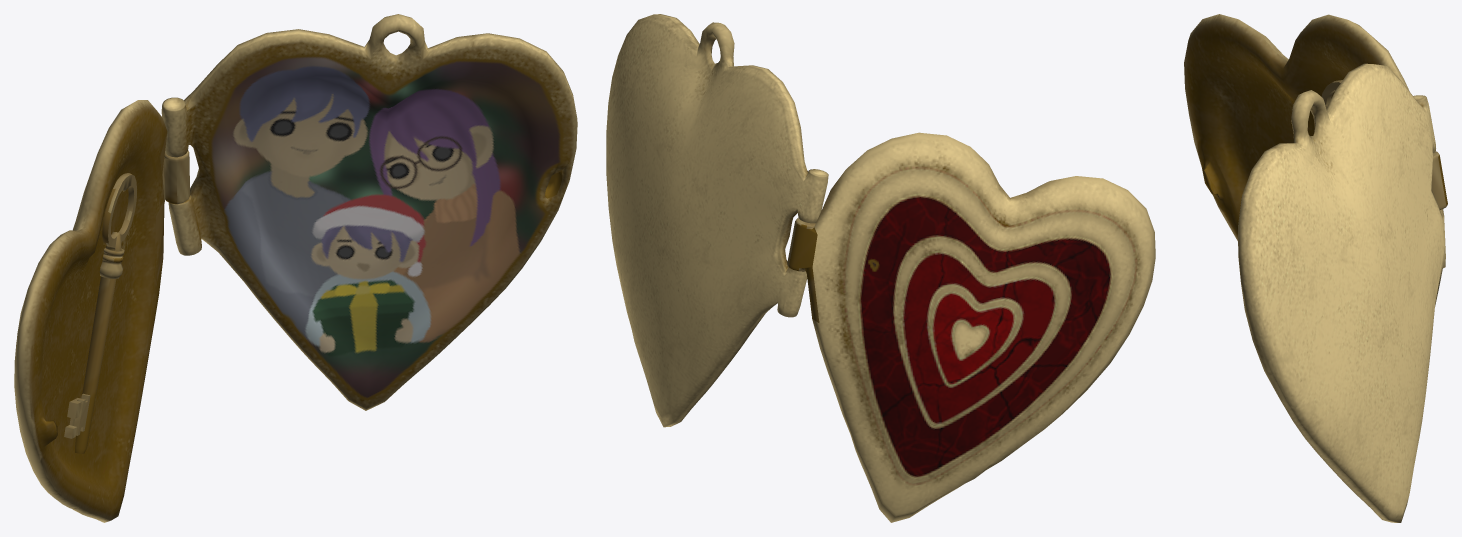
File: SM_Prop_Clue_Pendant.fbx
The picture shows the model from 3 angles, left to right: view 1: azimuth 30°, elevation 25°; view 2: azimuth 150°, elevation 25°; view 3: azimuth 270°, elevation 25°; orthographic projection. The views are drawn at different scales.
Parts seen in each view (by area): view 1: SM_Prop_Clue_Pendant; view 2: SM_Prop_Clue_Pendant; view 3: SM_Prop_Clue_Pendant.
Part boxes in pixels (<box>): SM_Prop_Clue_Pendant: <box>14,14,577,522</box>; SM_Prop_Clue_Pendant: <box>606,14,1155,522</box>; SM_Prop_Clue_Pendant: <box>1184,14,1447,522</box>.
Size of the model in its own units: 18.6 by 14.4 by 7.31.
1 material, 1 textured.
